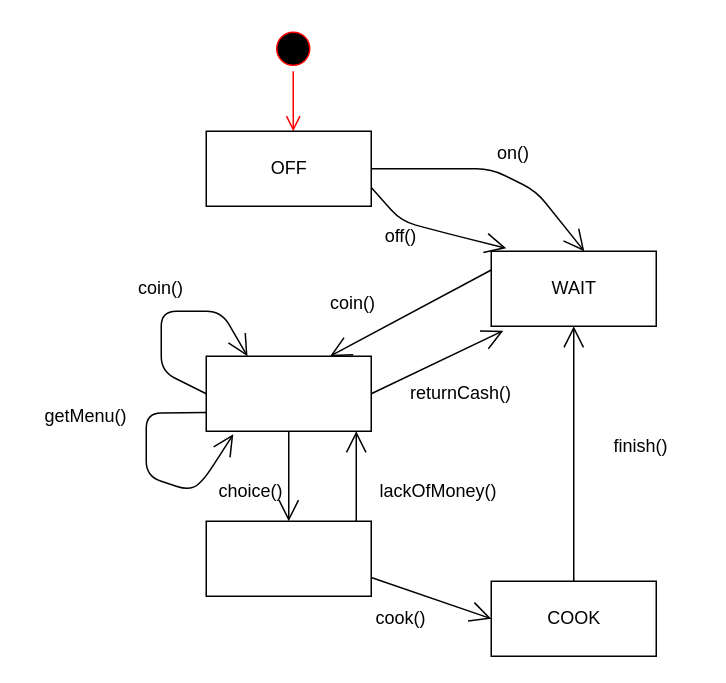
The diagram is 726 pixels wide and 683 high, and some of its shapes have lost their labels. Each missing label, with the centre of its shape:
ACCEPT: [288,393]
CHECK: [288,558]
